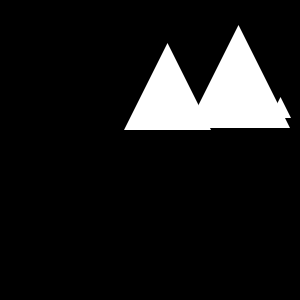triangle: (187, 25, 290, 128), (124, 43, 211, 130), (270, 97, 291, 118)
